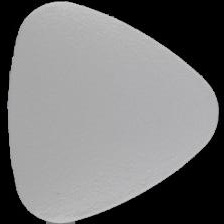51991-735: (0, 0, 224, 224)
